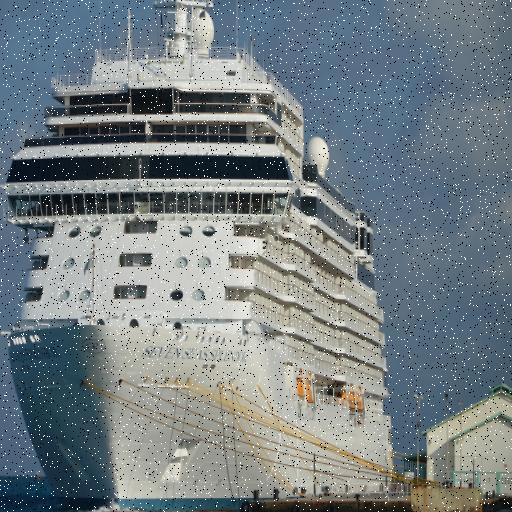cruises: (1, 1, 405, 508)
